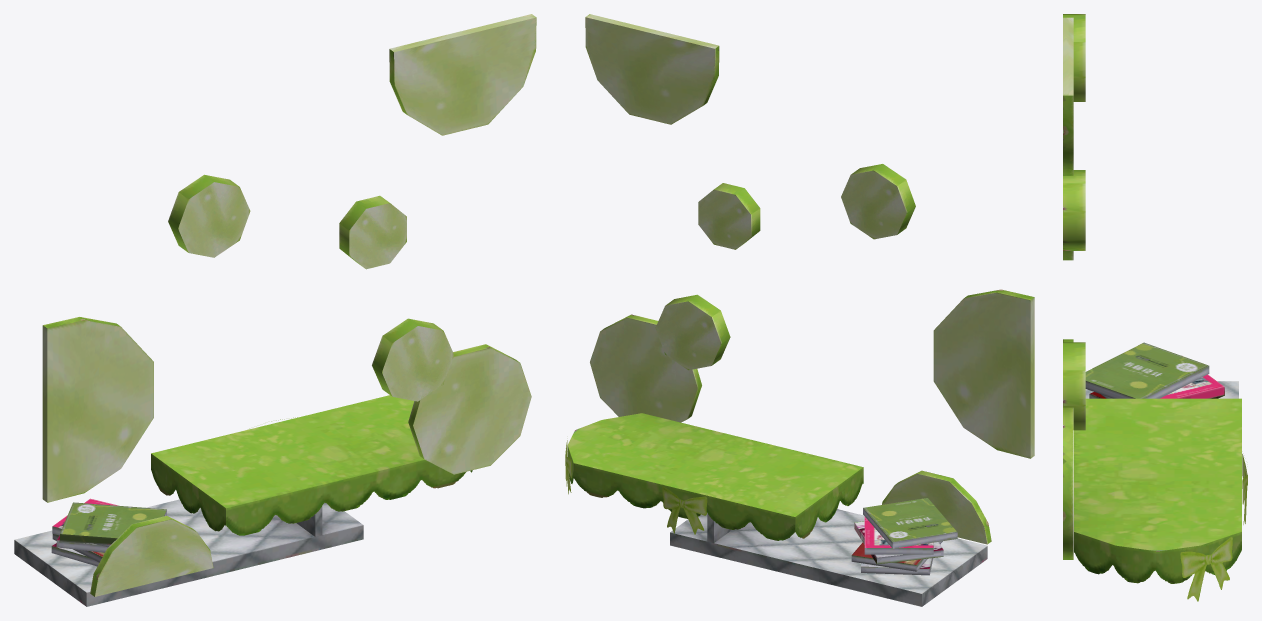
Rendered from furni_0200029_02.FBX.
3 views of the same model, side by side, from view 1: azimuth 30°, elevation 25°; view 2: azimuth 150°, elevation 25°; view 3: azimuth 270°, elevation 25° (orthographic). The views are drawn at different scales.
Visible parts, largest first — view 1: furni_0200029_02; view 2: furni_0200029_02; view 3: furni_0200029_02.
Part boxes in pixels (x1,y1,x2,y2): furni_0200029_02: (14,14,536,606); furni_0200029_02: (565,14,1034,606); furni_0200029_02: (1063,14,1247,601).
Bounding box in the file's own units: 281 × 267 × 82.18.
